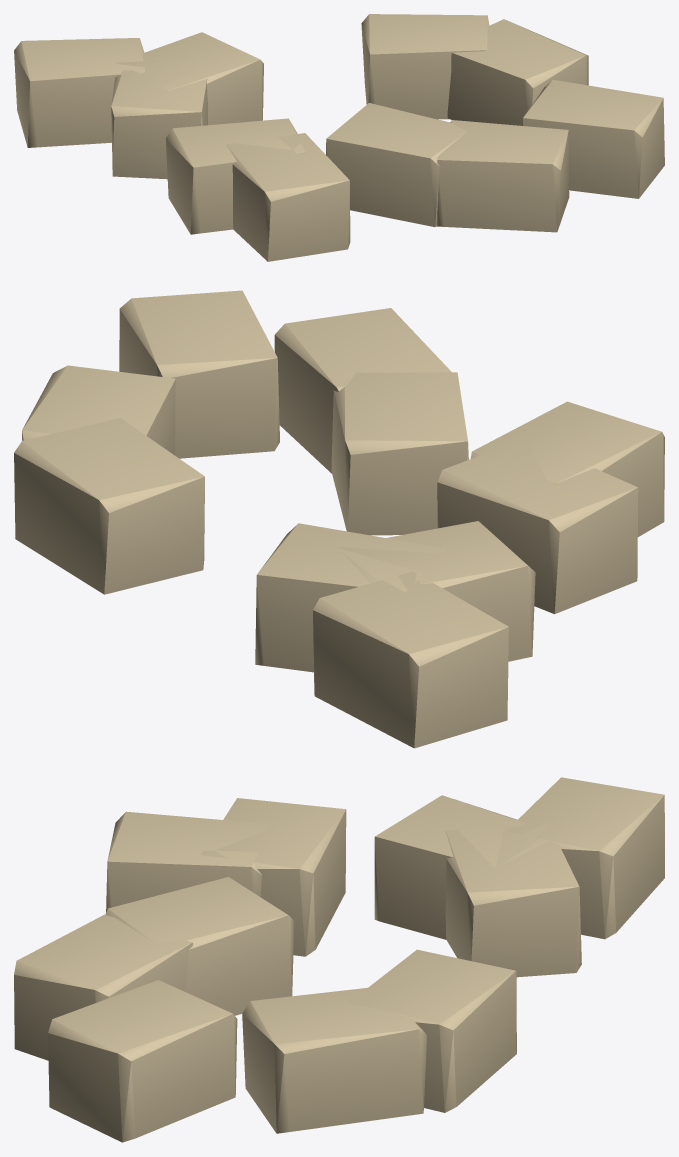
File: JPN-09-LOD1.glb
The picture shows the model from 3 angles, top to bottom: view 1: azimuth 30°, elevation 25°; view 2: azimuth 150°, elevation 25°; view 3: azimuth 270°, elevation 25°; orthographic projection. The views are drawn at different scales.
Parts seen in each view (by area): view 1: settled rubble.004, settled rubble.007, settled rubble.001, settled rubble.005, settled rubble.006, settled rubble, settled rubble.003, settled rubble.008, settled rubble.009, settled rubble.002; view 2: settled rubble.006, settled rubble, settled rubble.008, settled rubble.001, settled rubble.005, settled rubble.004, settled rubble.002, settled rubble.007, settled rubble.009, settled rubble.003; view 3: settled rubble.001, settled rubble.003, settled rubble.002, settled rubble, settled rubble.005, settled rubble.006, settled rubble.004, settled rubble.008, settled rubble.009, settled rubble.007.
Part boxes in pixels (x1=…): settled rubble.004: x1=436, y1=120, x2=569, y2=232; settled rubble.007: x1=226, y1=133, x2=350, y2=261; settled rubble.001: x1=523, y1=79, x2=664, y2=198; settled rubble.005: x1=326, y1=103, x2=467, y2=226; settled rubble.006: x1=14, y1=38, x2=145, y2=147; settled rubble: x1=361, y1=14, x2=489, y2=119; settled rubble.003: x1=447, y1=19, x2=588, y2=125; settled rubble.008: x1=165, y1=118, x2=305, y2=234; settled rubble.009: x1=111, y1=57, x2=209, y2=179; settled rubble.002: x1=116, y1=32, x2=263, y2=125; settled rubble.006: x1=313, y1=571, x2=508, y2=748; settled rubble: x1=14, y1=418, x2=204, y2=594; settled rubble.008: x1=437, y1=438, x2=638, y2=614; settled rubble.001: x1=119, y1=290, x2=279, y2=458; settled rubble.005: x1=331, y1=372, x2=468, y2=535; settled rubble.004: x1=274, y1=308, x2=451, y2=473; settled rubble.002: x1=255, y1=523, x2=447, y2=672; settled rubble.007: x1=470, y1=401, x2=664, y2=536; settled rubble.009: x1=337, y1=521, x2=535, y2=661; settled rubble.003: x1=22, y1=365, x2=175, y2=455; settled rubble.001: x1=48, y1=980, x2=237, y2=1142; settled rubble.003: x1=242, y1=987, x2=426, y2=1133; settled rubble.002: x1=445, y1=824, x2=581, y2=977; settled rubble: x1=350, y1=949, x2=516, y2=1112; settled rubble.005: x1=105, y1=877, x2=294, y2=1015; settled rubble.006: x1=506, y1=777, x2=664, y2=939; settled rubble.004: x1=14, y1=914, x2=193, y2=1060; settled rubble.008: x1=200, y1=798, x2=346, y2=956; settled rubble.009: x1=374, y1=795, x2=546, y2=939; settled rubble.007: x1=106, y1=811, x2=271, y2=912.
Size of the model in its own units: 1.35 by 0.1965 by 1.33.
